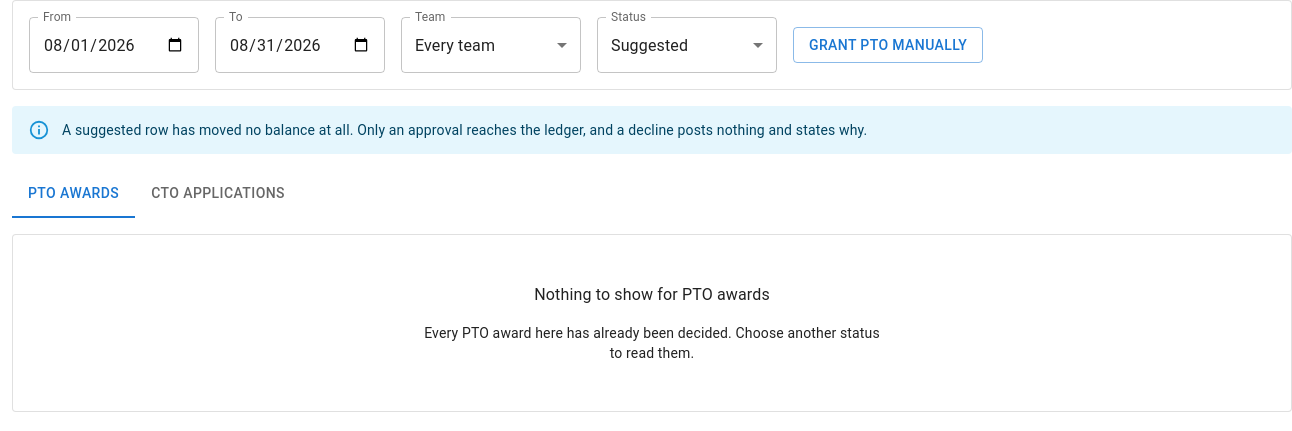
Test: PtoCandidates › shows expired as the stage it is, not as a date the reader must compare
Click the dropdown named "status" at [650, 45], box top-left (611, 36), bottom-right (688, 54)
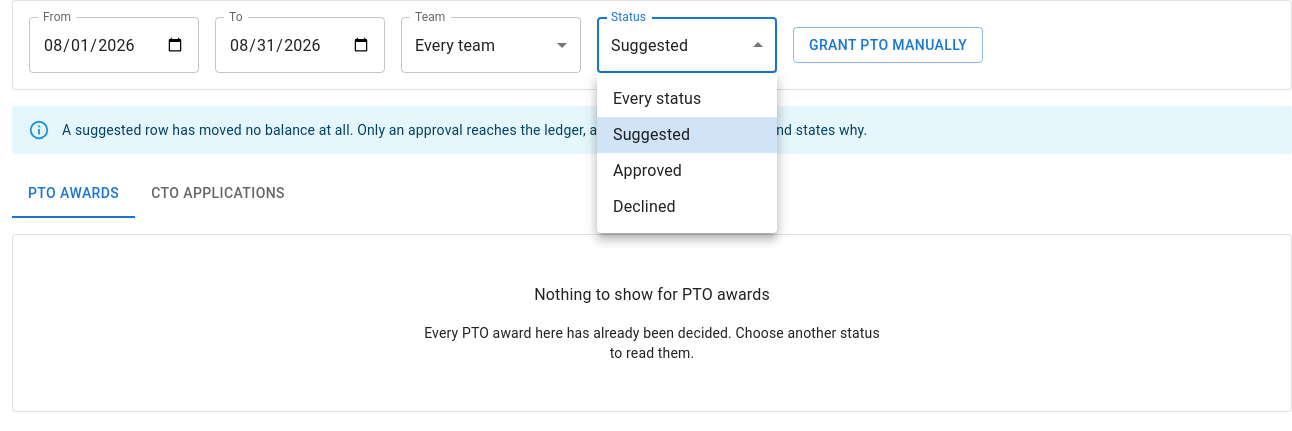
Click the option "Every status" at [657, 98], box top-left (613, 89), bottom-right (701, 108)
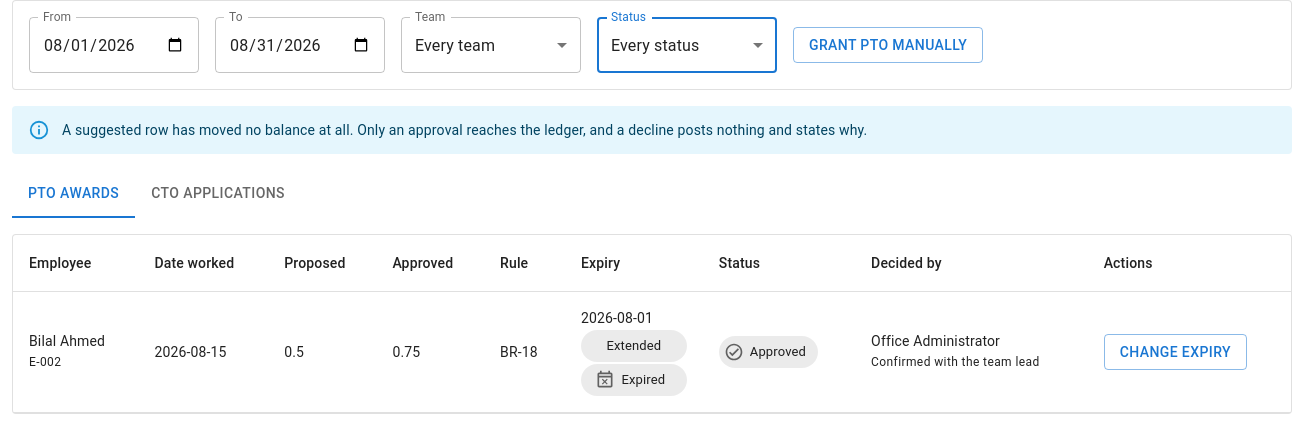
Check: the text "Expired" is shown, box top-left (621, 372), bottom-right (665, 387)
